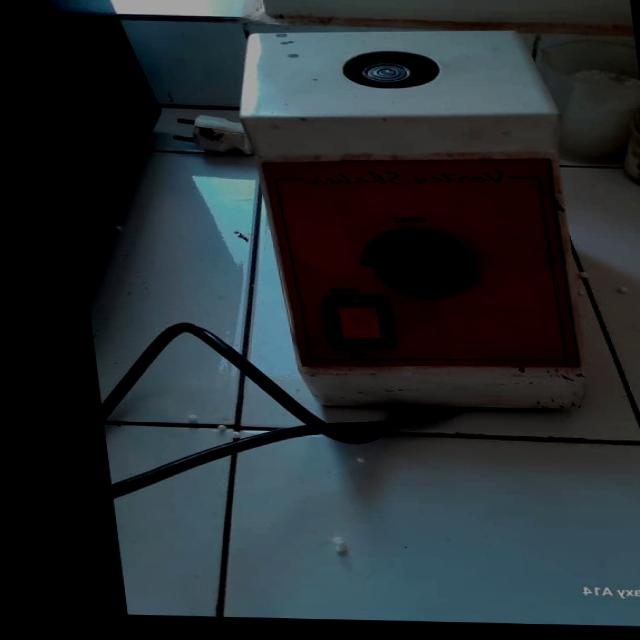Vortex: (225, 19, 598, 435)
